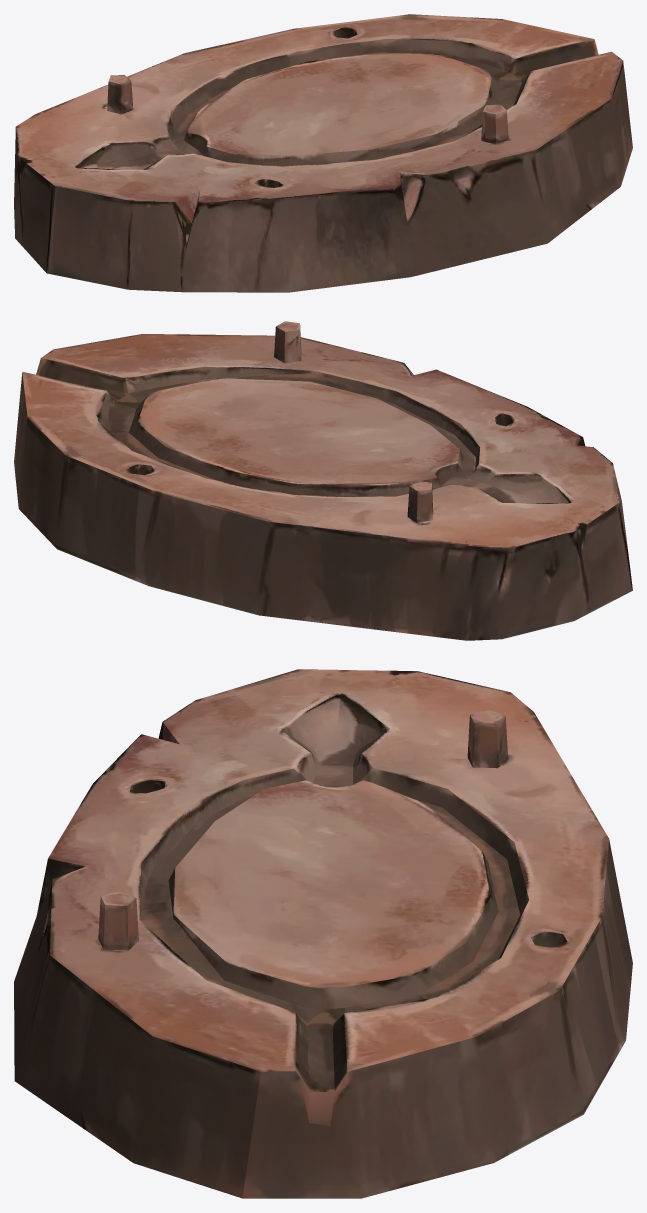
3 renders of one model, top to bottom at view 1: azimuth 30°, elevation 25°; view 2: azimuth 150°, elevation 25°; view 3: azimuth 270°, elevation 25°, orthographic. The views are drawn at different scales.
Visible parts, largest first — view 1: SM_Amulet_Mould_Unfired_01_LOD0; view 2: SM_Amulet_Mould_Unfired_01_LOD0; view 3: SM_Amulet_Mould_Unfired_01_LOD0.
Part boxes in pixels (left/top/right/bottom): SM_Amulet_Mould_Unfired_01_LOD0: left=14, top=14, right=632, bottom=292; SM_Amulet_Mould_Unfired_01_LOD0: left=14, top=321, right=632, bottom=640; SM_Amulet_Mould_Unfired_01_LOD0: left=14, top=669, right=632, bottom=1198.
Bounding box in the file's own units: 0.4665 × 0.089 × 0.2961.
Materials: 1 (1 with a texture image).
